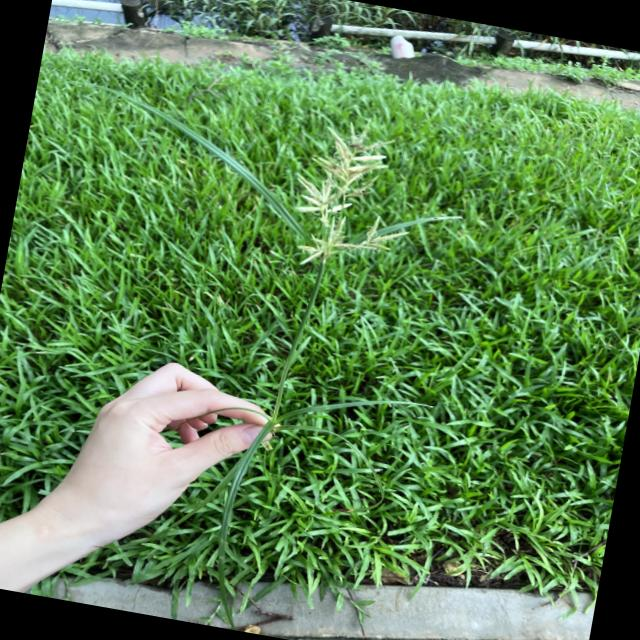cyperus: (272, 100, 431, 282)
